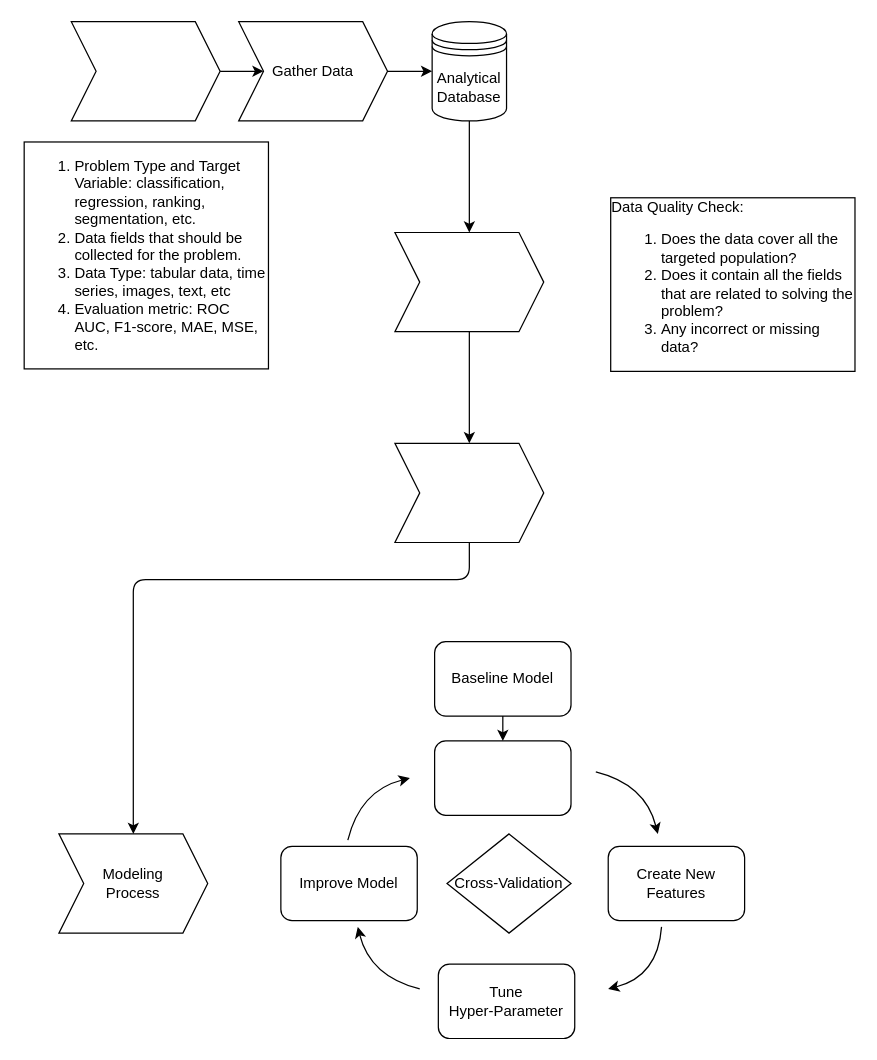
Some shapes in this 877 by 1060 pixel diagram are drawn without their labels. Each missing label, with the centre of its shape:
"Data Extraction" belongs at pixel 469 281.
"Exploratory Data Analysis" belongs at pixel 469 492.
"Pre-process Data" belongs at pixel 502 777.
"Understand Business Problem" belongs at pixel 145 70.
